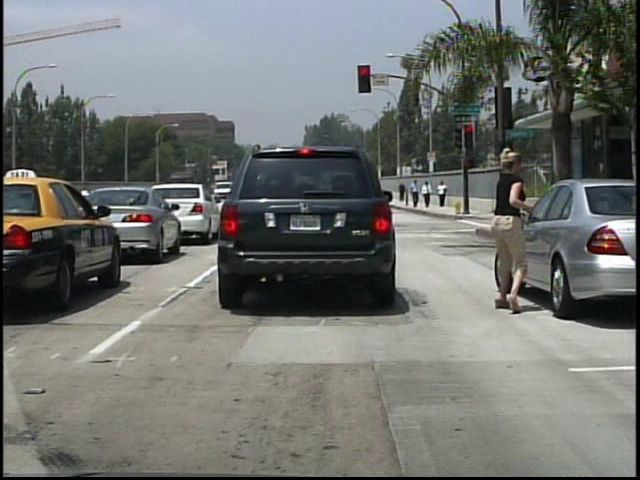person: (486, 138, 543, 315), (412, 177, 422, 207), (438, 180, 449, 207), (423, 180, 433, 208), (399, 181, 408, 203)
